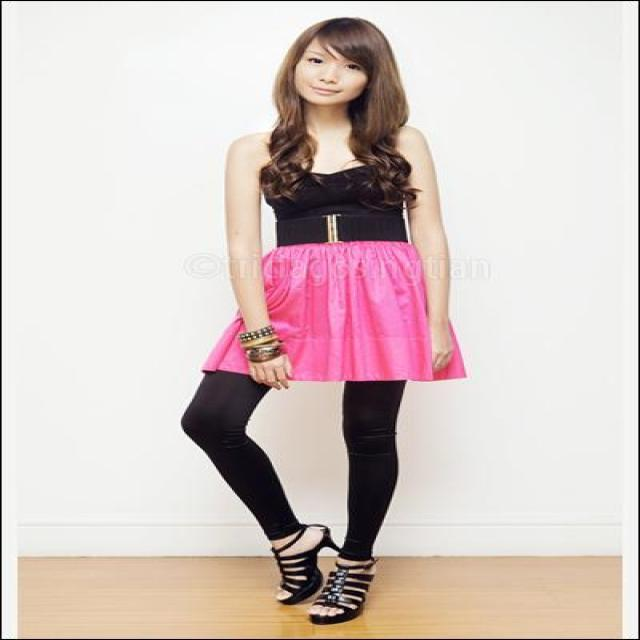shirt: (266, 163, 382, 241)
shoe: (260, 503, 378, 624)
skirt: (211, 241, 466, 381)
